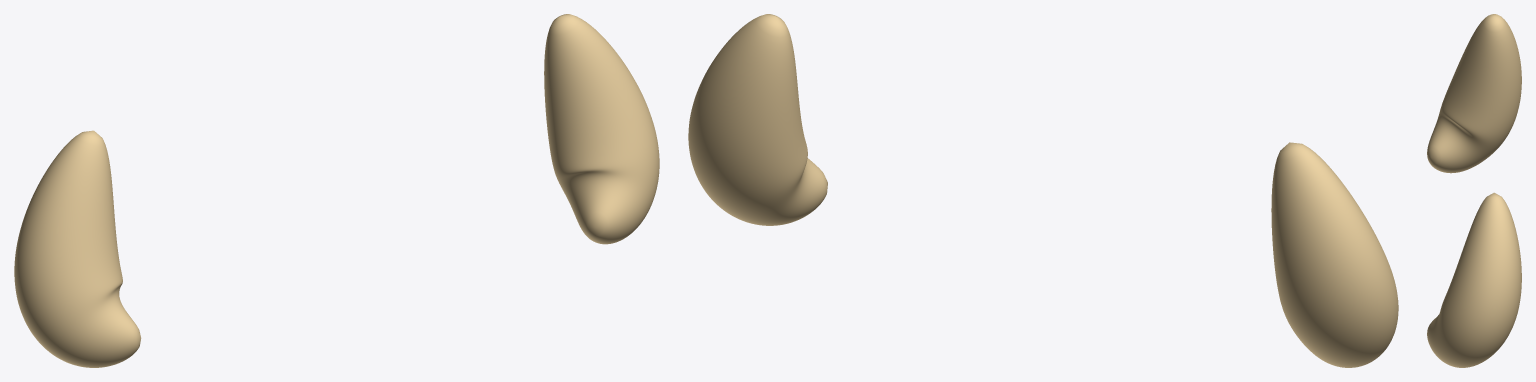
The model's file is Masculine-arms-curved.glb.
The picture shows the model from 3 angles, left to right: view 1: azimuth 30°, elevation 25°; view 2: azimuth 150°, elevation 25°; view 3: azimuth 270°, elevation 25°; orthographic projection. The views are drawn at different scales.
Visible parts, largest first — view 1: Skin / curved arm -1, Skin / curved arm 1; view 2: Skin / curved arm 1, Skin / curved arm -1; view 3: Skin / curved arm 1, Skin / curved arm -1.
Part boxes in pixels (bbox=[...]): Skin / curved arm -1: bbox=[14, 130, 141, 367]; Skin / curved arm 1: bbox=[544, 14, 659, 244]; Skin / curved arm 1: bbox=[688, 14, 827, 225]; Skin / curved arm -1: bbox=[1271, 142, 1398, 367]; Skin / curved arm 1: bbox=[1427, 192, 1521, 367]; Skin / curved arm -1: bbox=[1427, 14, 1521, 173].
Bounding box in the file's own units: 1.22 × 0.388 × 0.2059.
